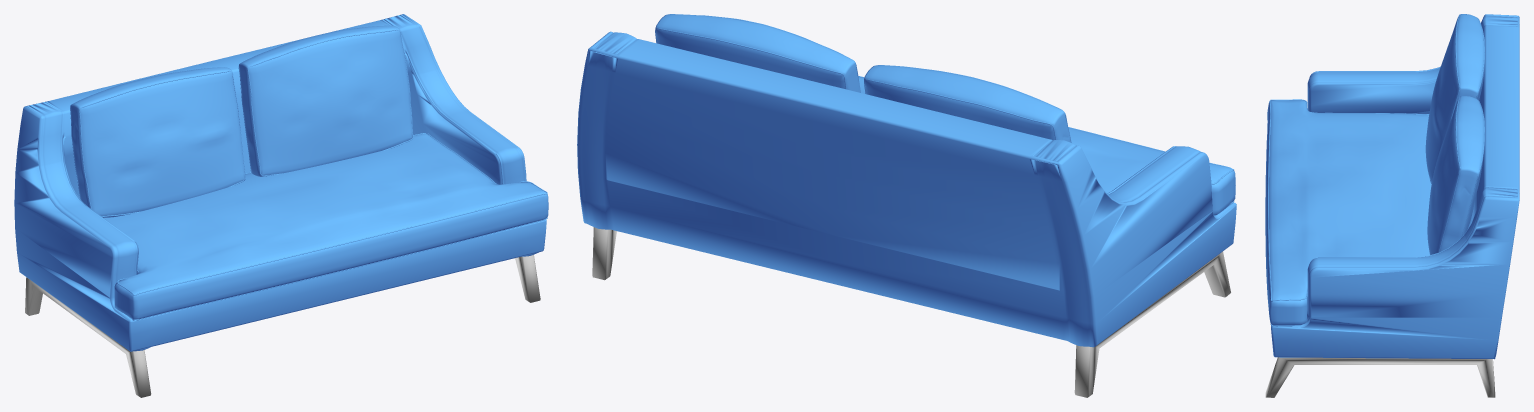
File: sofa.glb
The picture shows the model from 3 angles, left to right: view 1: azimuth 30°, elevation 25°; view 2: azimuth 150°, elevation 25°; view 3: azimuth 270°, elevation 25°; orthographic projection. The views are drawn at different scales.
Parts seen in each view (by area): view 1: buffer-0-mesh-0_2_2, buffer-0-mesh-0_1_1, buffer-0-mesh-0_0; view 2: buffer-0-mesh-0_1_1, buffer-0-mesh-0_2_2, buffer-0-mesh-0_0; view 3: buffer-0-mesh-0_1_1, buffer-0-mesh-0_2_2, buffer-0-mesh-0_0.
Part boxes in pixels (x1=…): buffer-0-mesh-0_2_2: x1=70, y1=25, x2=548, y2=319; buffer-0-mesh-0_1_1: x1=14, y1=14, x2=547, y2=351; buffer-0-mesh-0_0: x1=25, y1=254, x2=540, y2=397; buffer-0-mesh-0_1_1: x1=577, y1=14, x2=1236, y2=347; buffer-0-mesh-0_2_2: x1=655, y1=14, x2=1235, y2=215; buffer-0-mesh-0_0: x1=592, y1=227, x2=1230, y2=397; buffer-0-mesh-0_1_1: x1=1268, y1=14, x2=1519, y2=359; buffer-0-mesh-0_2_2: x1=1265, y1=14, x2=1485, y2=325; buffer-0-mesh-0_0: x1=1265, y1=357, x2=1495, y2=397.
Size of the model in its own units: 1.63 by 0.8148 by 0.8617.
